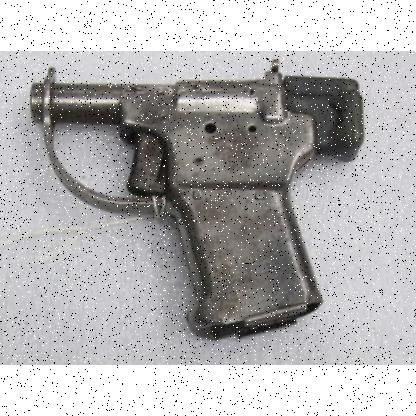gun: (30, 58, 364, 340)
